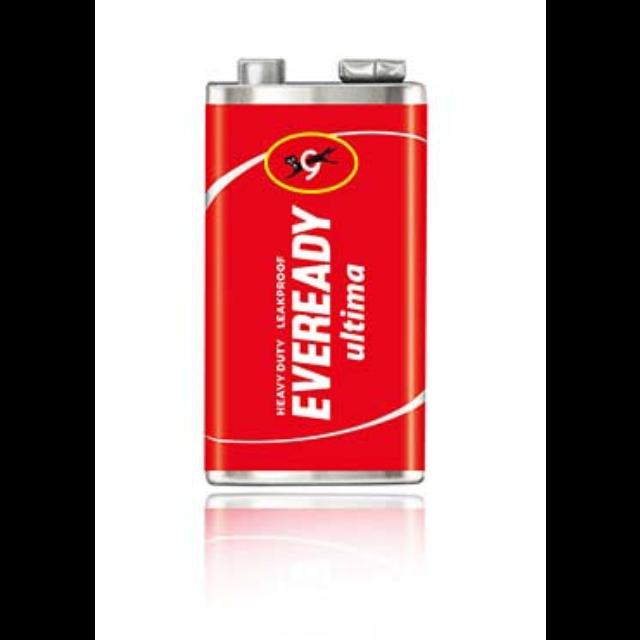Battery: (205, 59, 428, 512)
